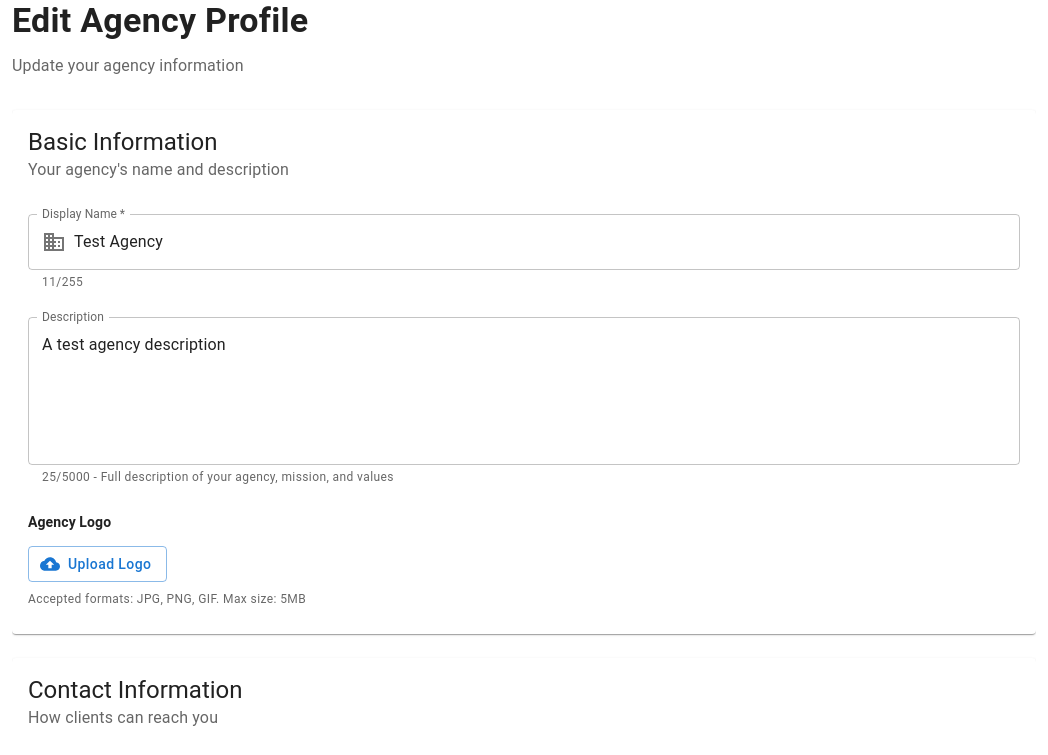
Edit Agency Page - Component Tests › Validation Errors › shows error when display name is empty
This screenshot has width=1048, height=755.
Clear the field showing "Test Agency" at [547, 242], box [74, 214, 1020, 270]
(page scrolled)
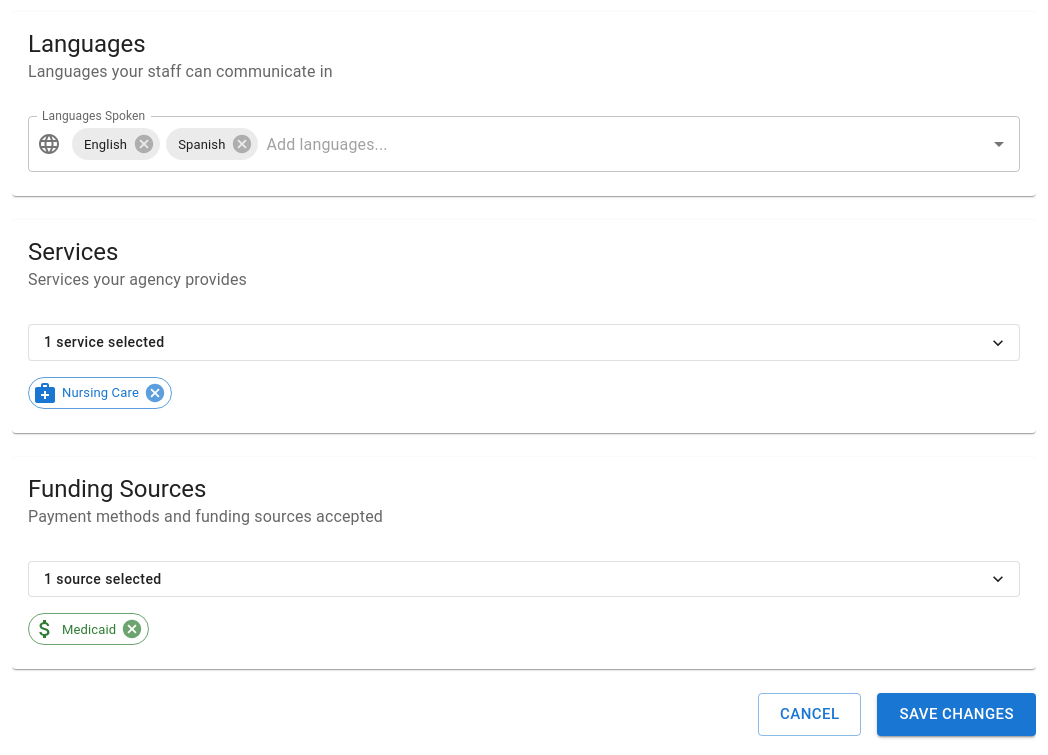
Click the button "Save Changes" at [957, 715], box [878, 694, 1036, 736]
(page scrolled)
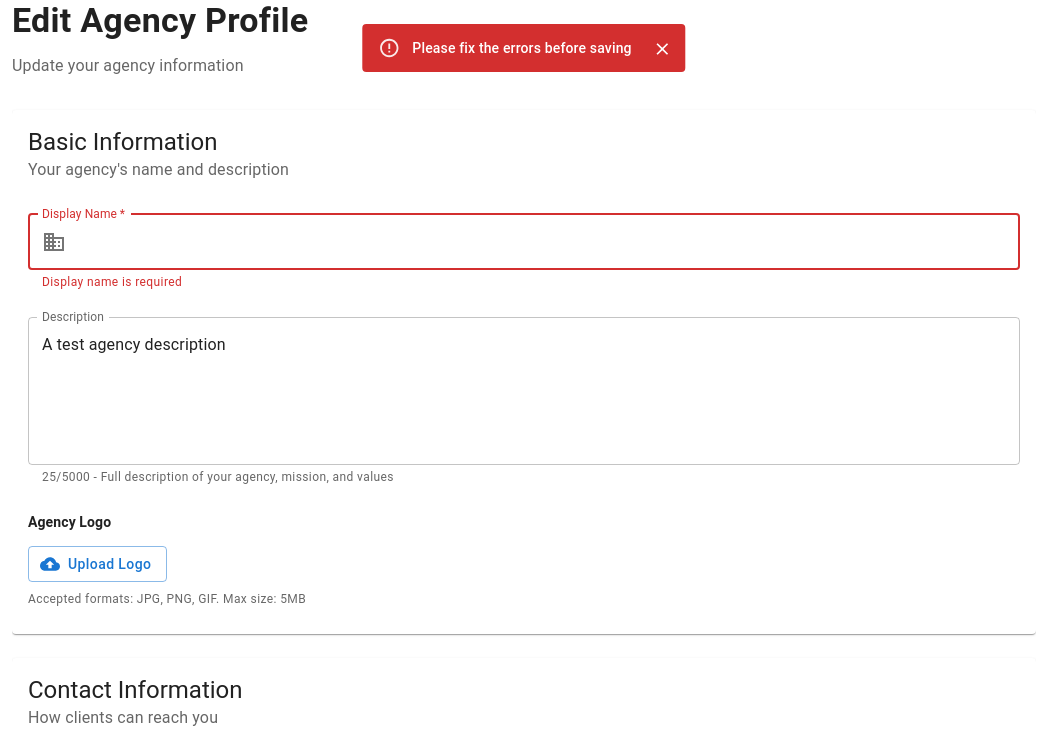
Check: the text "Display name is required" is shown, box [42, 275, 182, 289]
